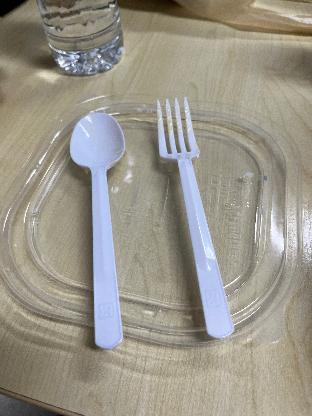Others: (144, 95, 252, 342), (65, 100, 143, 352)
